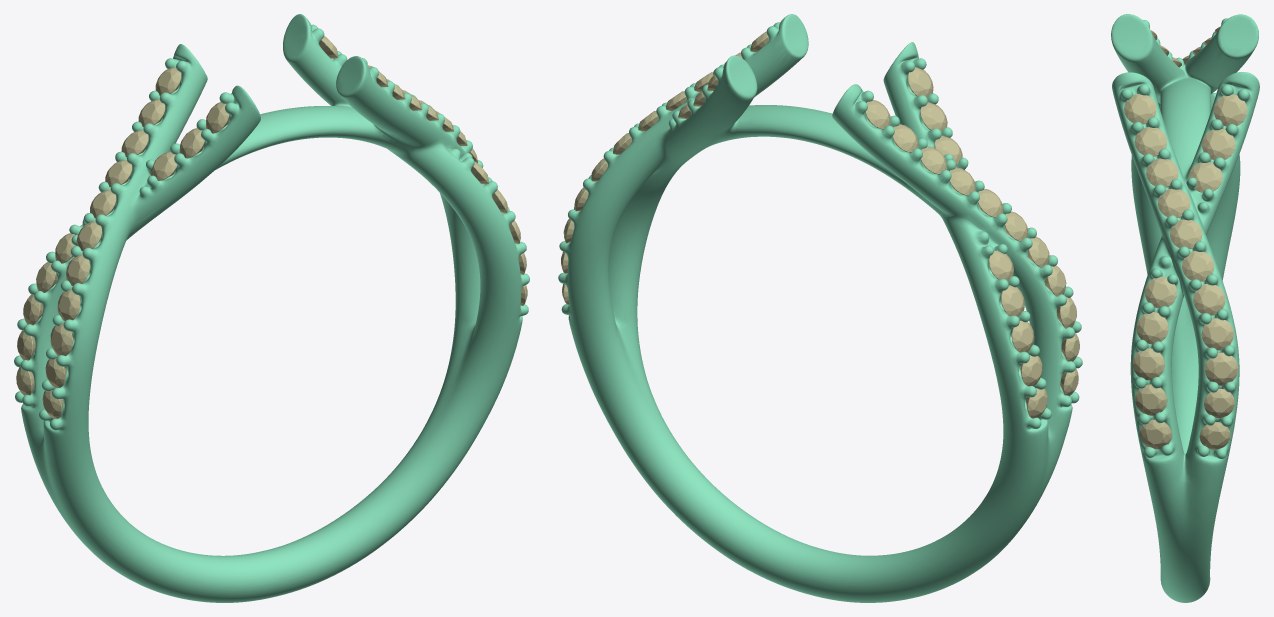
The picture shows the model from 3 angles, left to right: view 1: azimuth 30°, elevation 25°; view 2: azimuth 150°, elevation 25°; view 3: azimuth 270°, elevation 25°; orthographic projection.
Parts seen in each view (by area): view 1: Metal02; view 2: Metal02; view 3: Metal02, Diamond_Gem.008, Diamond_Gem.011, Diamond_Gem.007, Diamond_Gem.004, Diamond_Gem.013, Diamond_Gem.012, Diamond_Gem.005, Diamond_Gem.003, Diamond_Gem.002, Diamond_Gem.016, Diamond_Gem (+8 smaller).
Boxes of the visible parts, bbox=[...] form: Metal02: bbox=[14, 14, 529, 602]; Metal02: bbox=[558, 14, 1082, 602]; Metal02: bbox=[1111, 14, 1259, 602]; Diamond_Gem.008: bbox=[1213, 94, 1247, 126]; Diamond_Gem.011: bbox=[1205, 352, 1238, 385]; Diamond_Gem.007: bbox=[1202, 129, 1235, 160]; Diamond_Gem.004: bbox=[1136, 312, 1168, 344]; Diamond_Gem.013: bbox=[1201, 318, 1233, 350]; Diamond_Gem.012: bbox=[1193, 284, 1225, 315]; Diamond_Gem.005: bbox=[1132, 348, 1164, 380]; Diamond_Gem.003: bbox=[1145, 276, 1176, 308]; Diamond_Gem.002: bbox=[1135, 384, 1167, 415]; Diamond_Gem.016: bbox=[1182, 251, 1214, 281]; Diamond_Gem: bbox=[1124, 94, 1156, 124].
Bounding box in the file's own units: 21.28 × 22.84 × 5.76.
